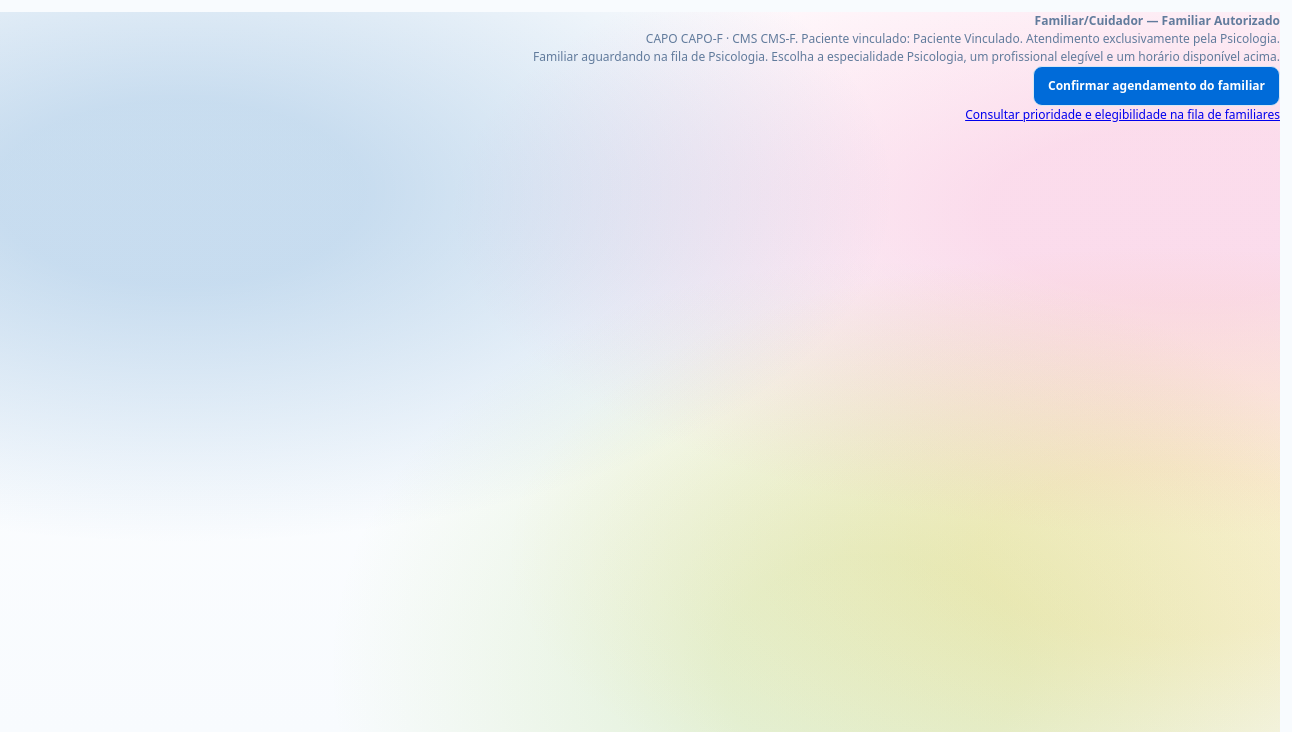
Test: Agendamento familiar pela pesquisa canônica da Agenda › respeita elegibilidade e prioridade, sem criar consulta quando familiar não é o próximo
What coordinates should you click on to do the following:
click the button "Confirmar agendamento do familiar"
I would click on:
 (1156, 86)
Its box is [1033,66,1280,106].
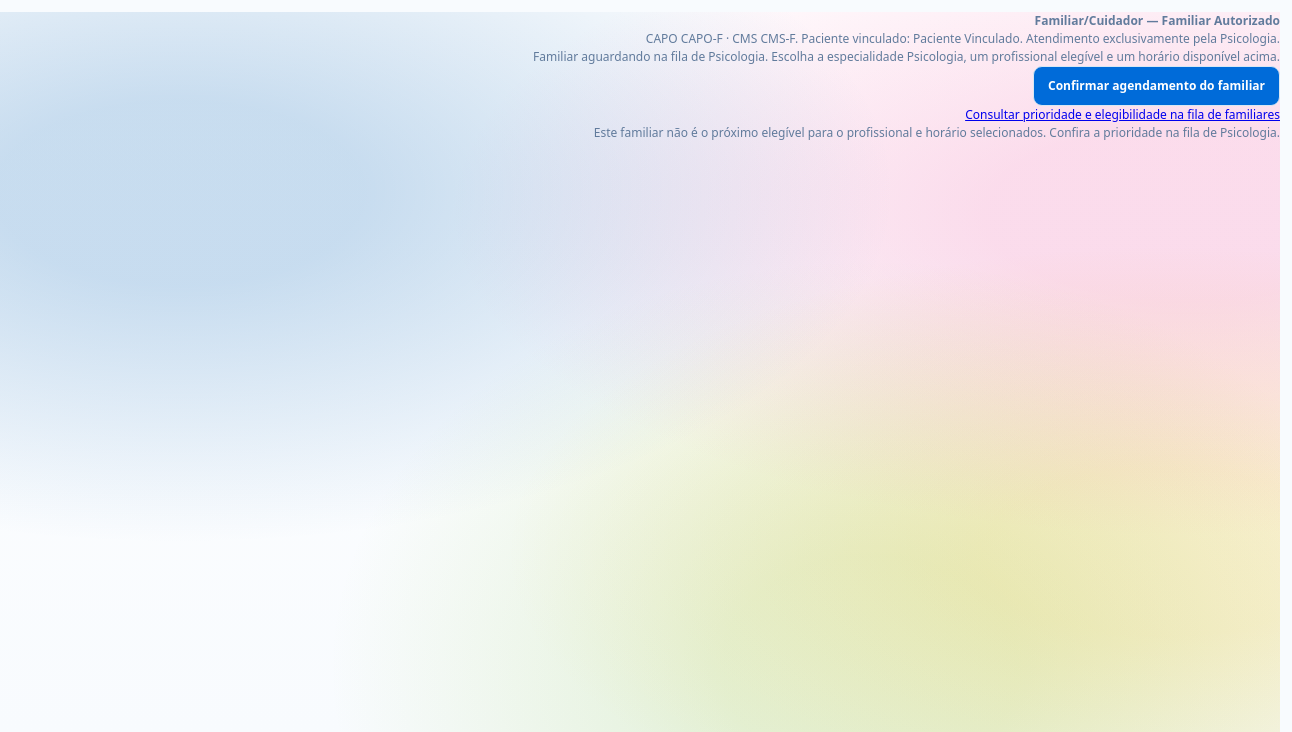
Result: the text "não é o próximo elegível" is shown at [594,124,1280,141]
